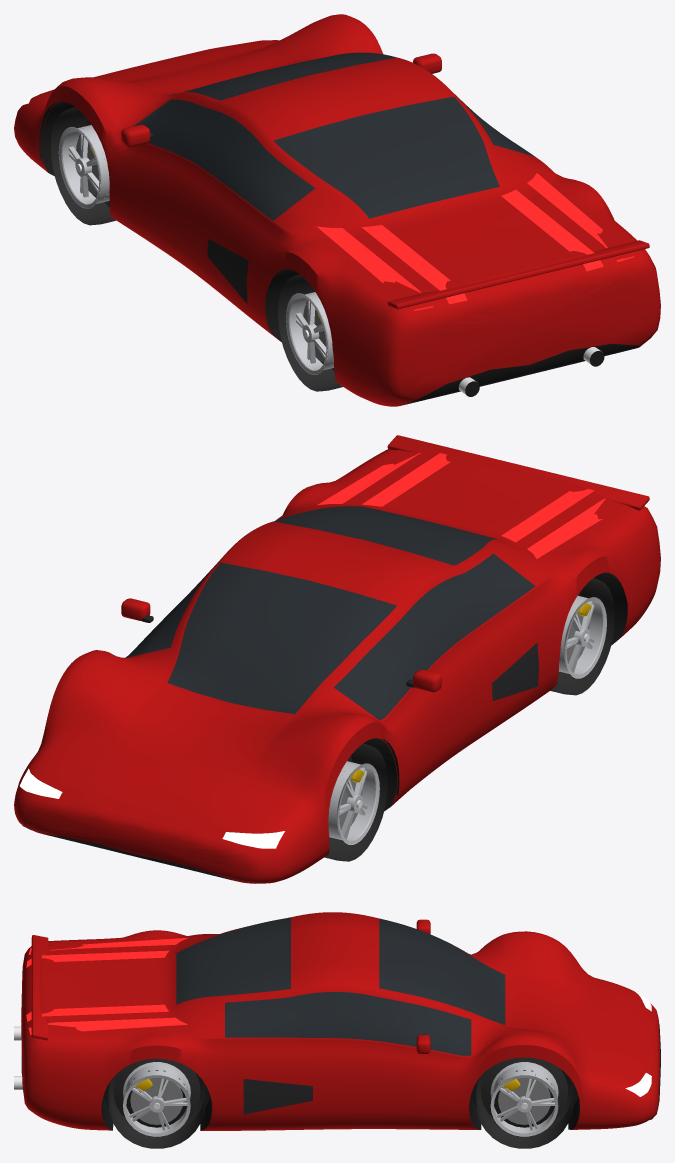
File: f8_tributo.glb
The picture shows the model from 3 angles, top to bottom: view 1: azimuth 30°, elevation 25°; view 2: azimuth 150°, elevation 25°; view 3: azimuth 270°, elevation 25°; orthographic projection. The views are drawn at different scales.
Parts seen in each view (by area): view 1: Body, Wheel_FL, Wheel_RL; view 2: Body, Wheel_FL, Wheel_RL; view 3: Body, Wheel_FR, Wheel_RR.
Part boxes in pixels (x1,y1,x2,y2): Body: [14, 14, 660, 406]; Wheel_FL: [50, 107, 115, 225]; Wheel_RL: [278, 274, 342, 391]; Body: [14, 435, 660, 883]; Wheel_FL: [324, 743, 387, 861]; Wheel_RL: [550, 578, 614, 695]; Body: [14, 912, 660, 1130]; Wheel_FR: [476, 1057, 572, 1148]; Wheel_RR: [108, 1058, 205, 1148].
Size of the model in its own units: 2.12 by 1.19 by 4.66.
